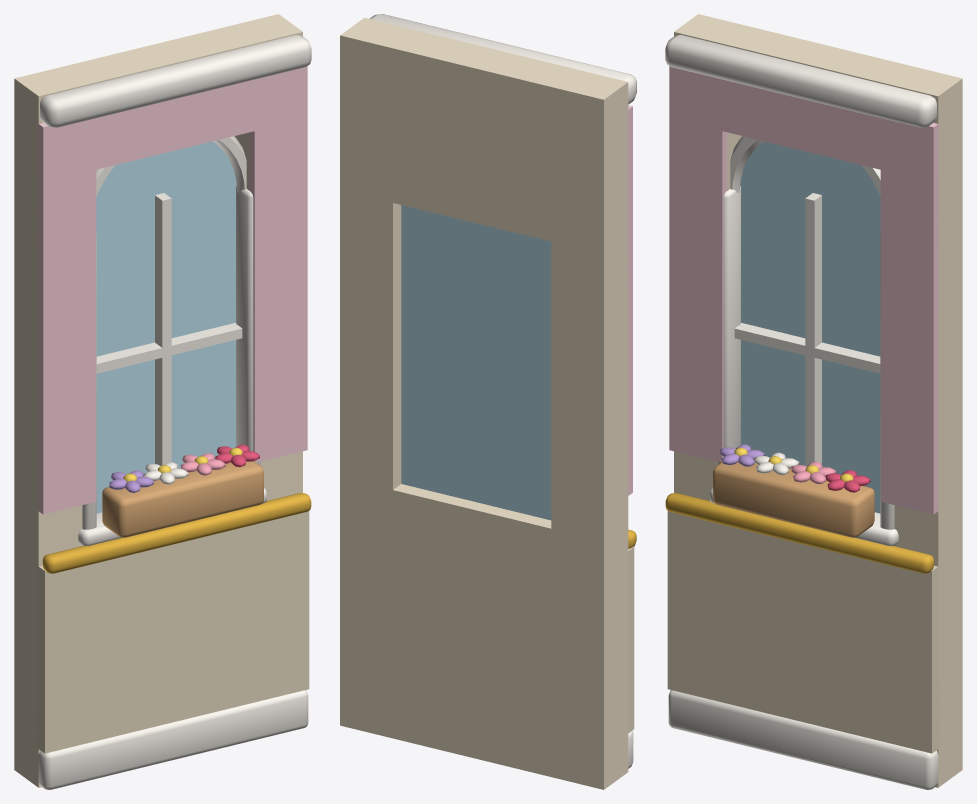
Rendered from parede_janela.glb.
The picture shows the model from 3 angles, left to right: view 1: azimuth 30°, elevation 25°; view 2: azimuth 150°, elevation 25°; view 3: azimuth 330°, elevation 25°; orthographic projection.
Parts seen in each view (by area): view 1: Parede_Janela; view 2: Parede_Janela; view 3: Parede_Janela.
Boxes of the visible parts, x1,y1,x2,y2 form: Parede_Janela: [14, 14, 311, 789]; Parede_Janela: [340, 14, 636, 789]; Parede_Janela: [665, 14, 962, 789].
Bounding box in the file's own units: 1 × 2.5 × 0.3148.
